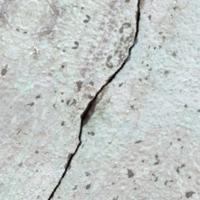crack: (26, 0, 157, 199)
